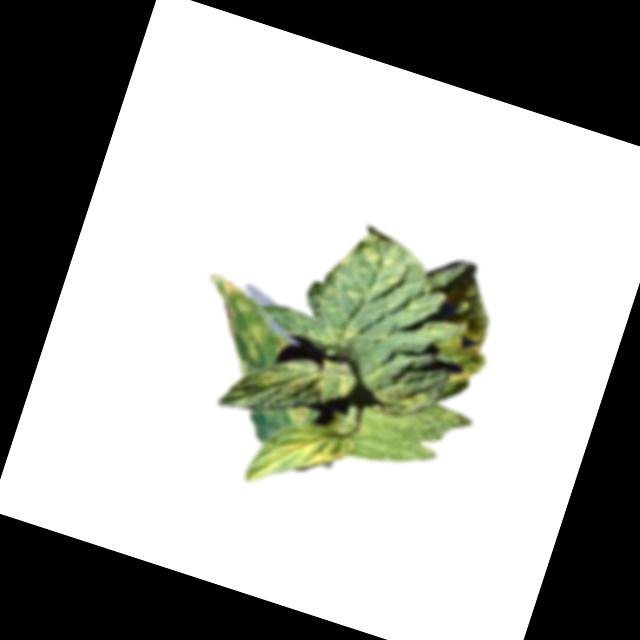Leaf_Mold: (179, 270, 304, 387), (241, 406, 354, 508), (258, 350, 355, 417), (335, 220, 419, 292), (433, 322, 494, 391)
